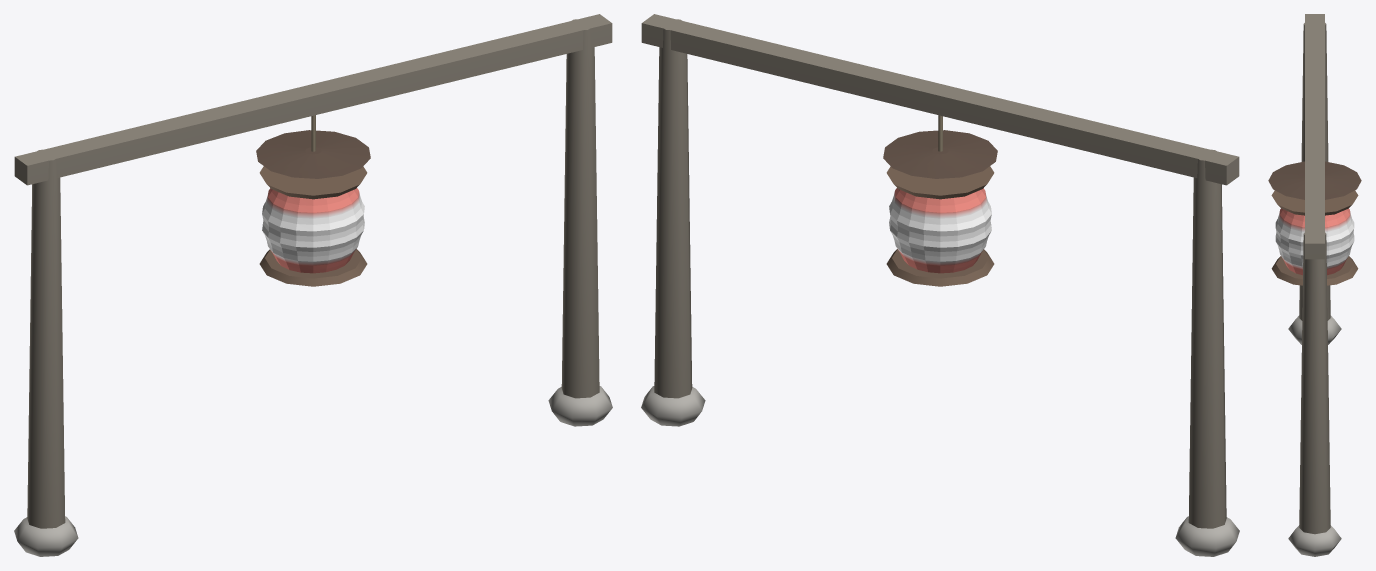
File: lantern-arch.glb
3 views of the same model, side by side, from view 1: azimuth 30°, elevation 25°; view 2: azimuth 150°, elevation 25°; view 3: azimuth 270°, elevation 25° (orthographic). The views are drawn at different scales.
Parts seen in each view (by area): view 1: lantern-arch-frame, lantern-arch-paper; view 2: lantern-arch-frame, lantern-arch-paper; view 3: lantern-arch-frame, lantern-arch-paper.
Part boxes in pixels (bbox=[...]): lantern-arch-frame: bbox=[14, 14, 612, 556]; lantern-arch-paper: bbox=[262, 188, 364, 273]; lantern-arch-frame: bbox=[641, 14, 1239, 556]; lantern-arch-paper: bbox=[889, 188, 991, 273]; lantern-arch-frame: bbox=[1268, 14, 1361, 556]; lantern-arch-paper: bbox=[1275, 208, 1354, 275].
Bounding box in the file's own units: 8.2 × 5.26 × 1.39.
